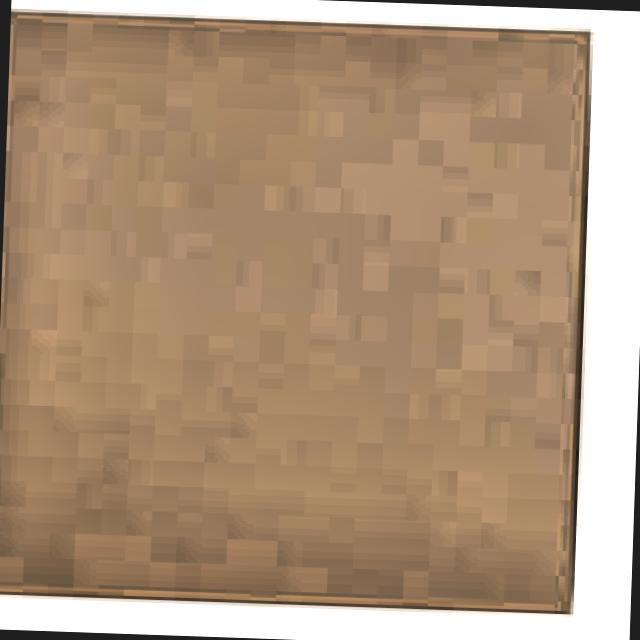cardboard: (0, 11, 593, 617)
